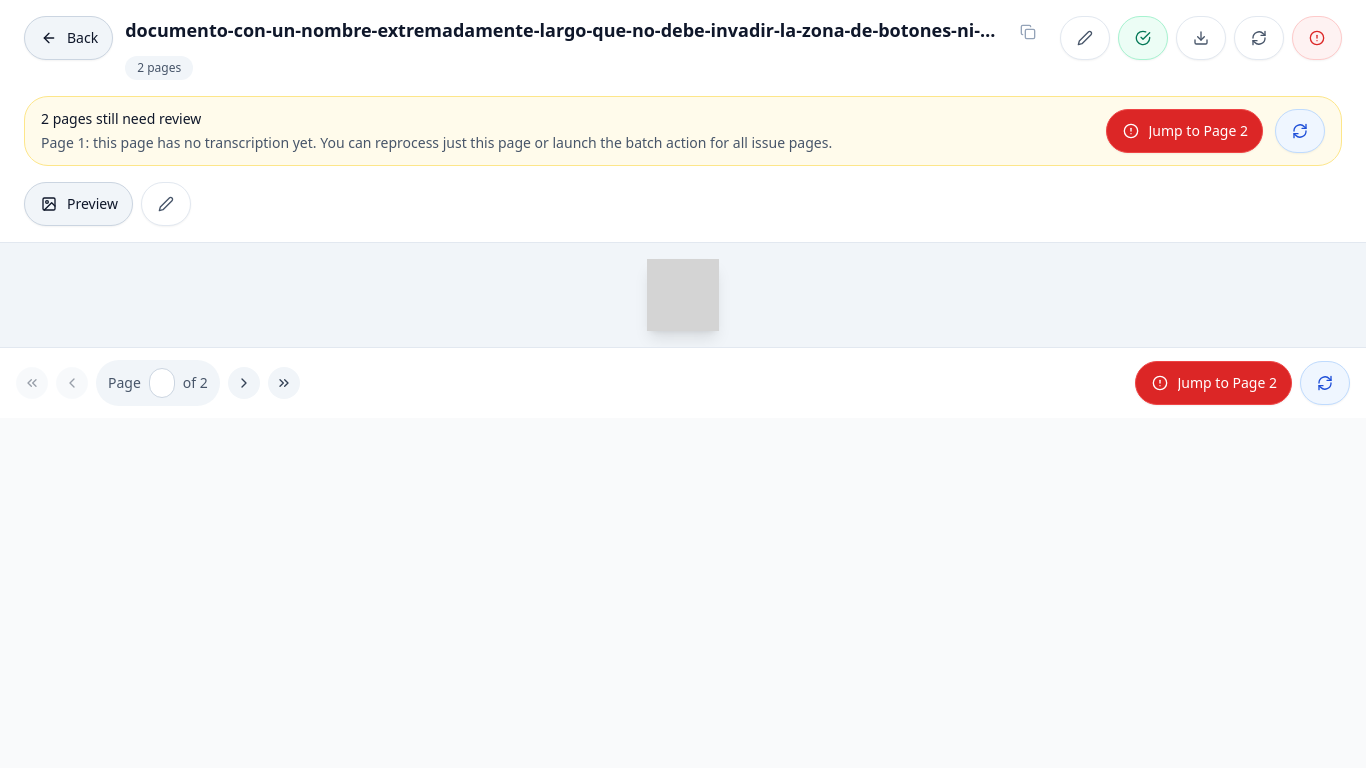
it: Editor header layout › uses a compact export sheet and keeps long titles truncated on compact layouts
This screenshot has width=1366, height=768.
Expected: the heading with test id "editor-document-title" is shown, [125,16,1004,44]
Step 1. Click the button named "Export" → (1201, 38), box [1176,16,1226,60]
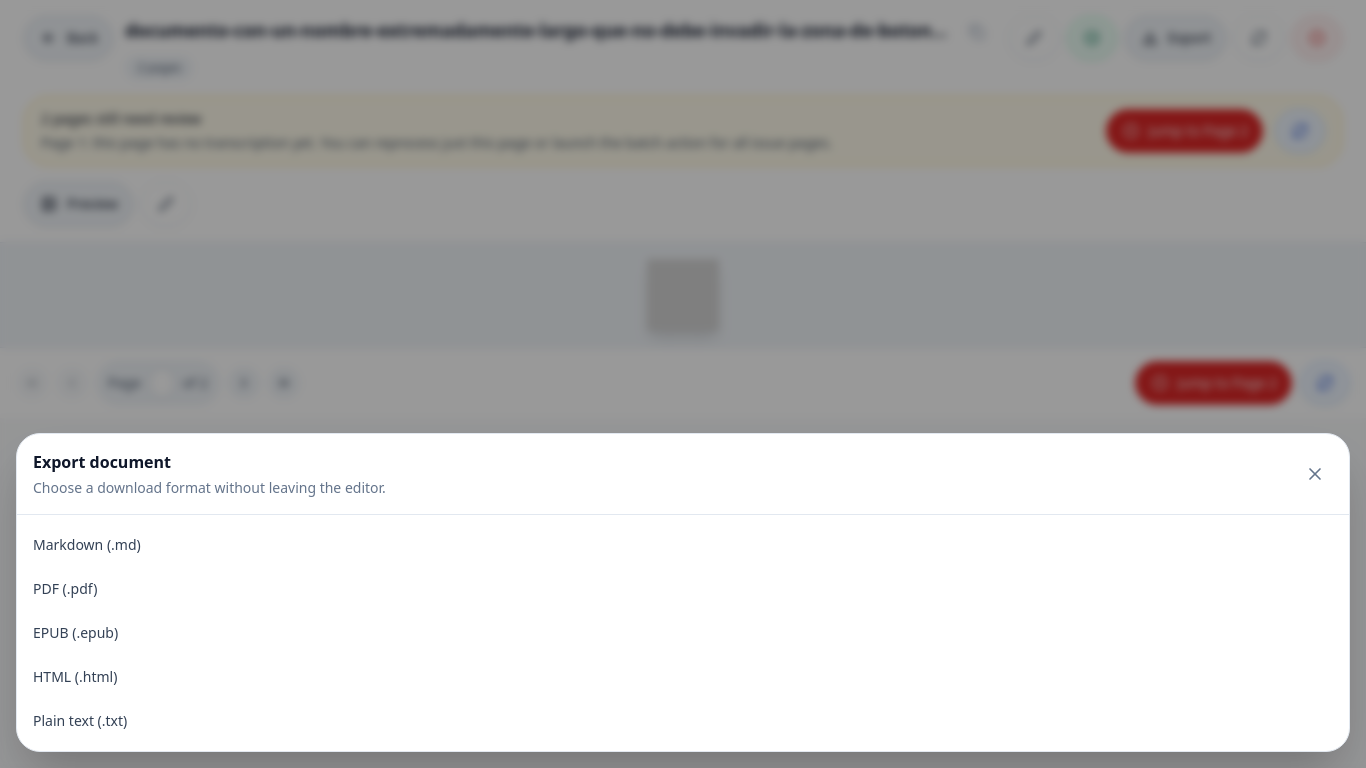
Now the element with test id "editor-export-sheet" is shown
Now the text "Export document" is shown, box [33,451,171,473]
Now the text "Markdown (.md)" is shown, box [17,523,1349,567]
